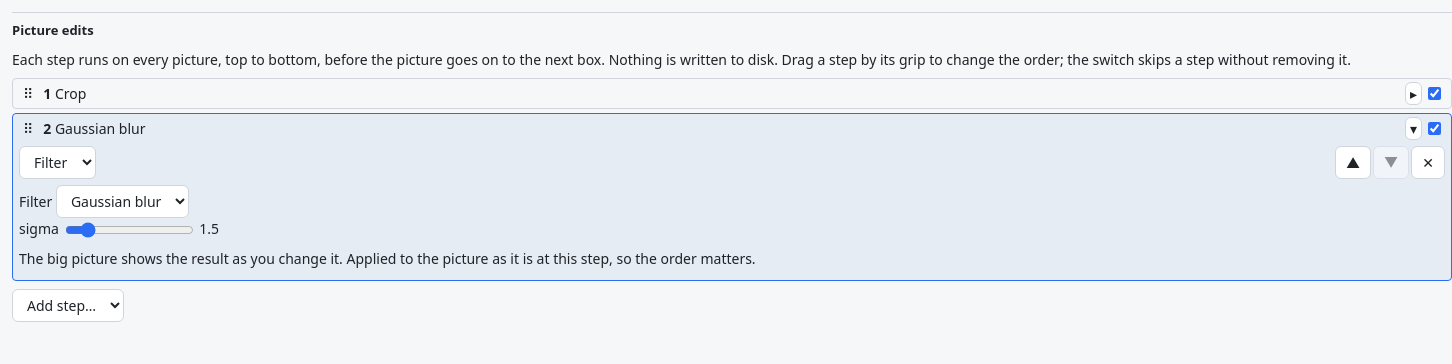
Test case: the switch skips a step without removing it; it is stored only while off
Click the switch named "Step 2 on" at (1434, 128), box [1428, 122, 1441, 134]
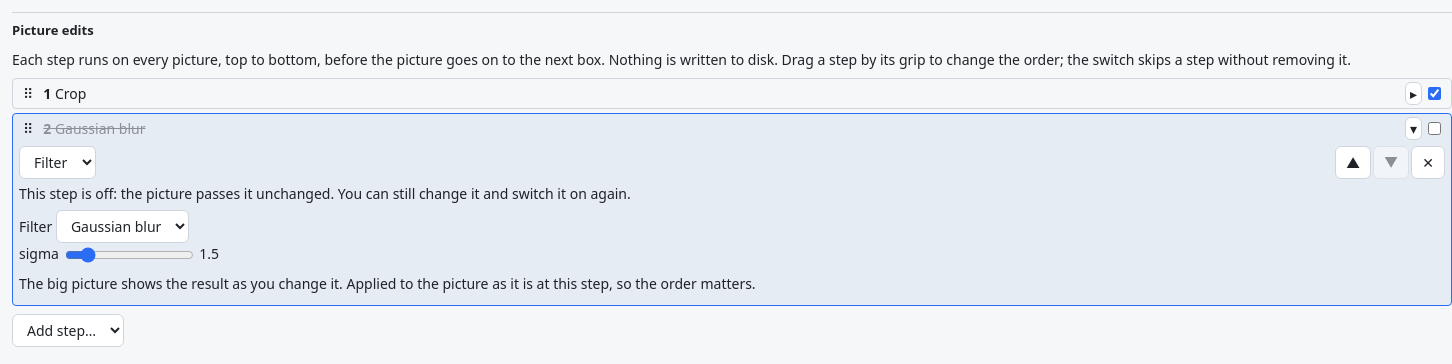
Expected: the slider labelled "sigma" is shown, [64, 247, 194, 263]
Expected: the switch named "Step 2 on" is not checked
Expected: the text "This step is off" is shown, [19, 184, 631, 202]
Click the switch named "Step 2 on" at (1434, 128), box [1428, 122, 1441, 134]
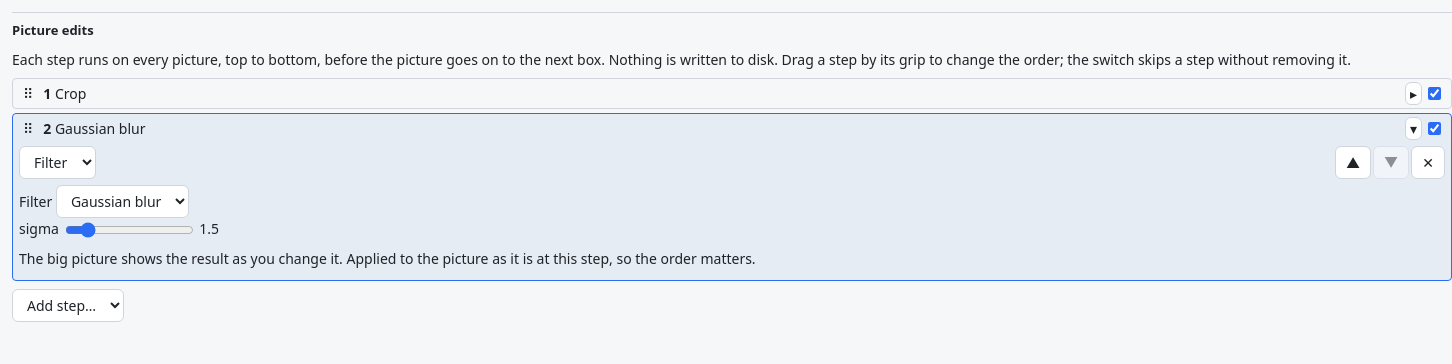
Expected: the text "This step is off" is gone
